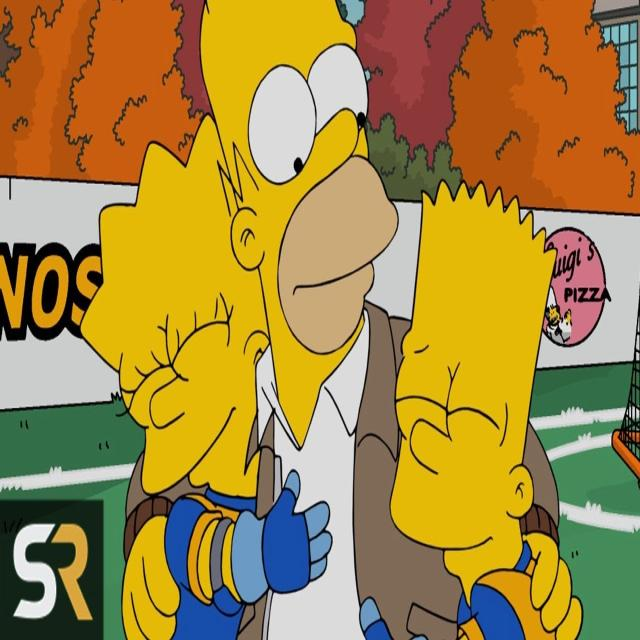Bart Simpson: (388, 174, 560, 614)
Homer Simpson: (198, 0, 401, 411)
Lisa Simpson: (78, 107, 270, 503)
